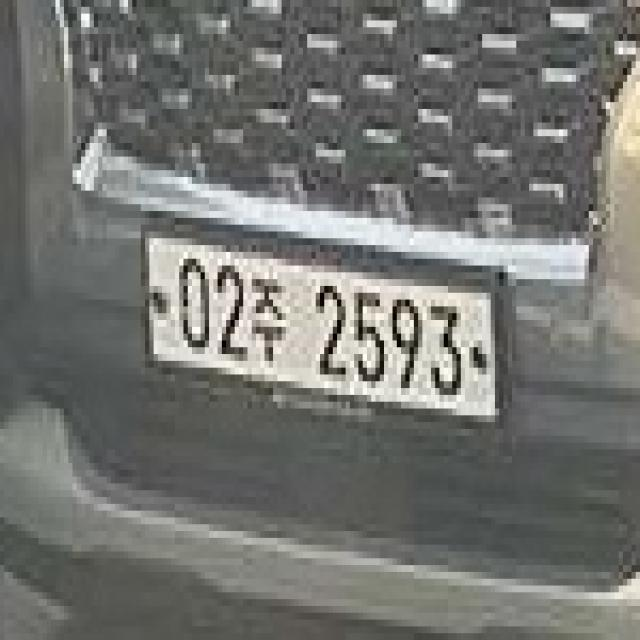0: (175, 253, 215, 365)
2: (316, 274, 352, 389), (218, 258, 248, 372)
3: (431, 287, 462, 410)
5: (357, 284, 388, 392)
9: (391, 292, 425, 407)
ju: (251, 272, 288, 369)
license_plate: (137, 214, 517, 461)
